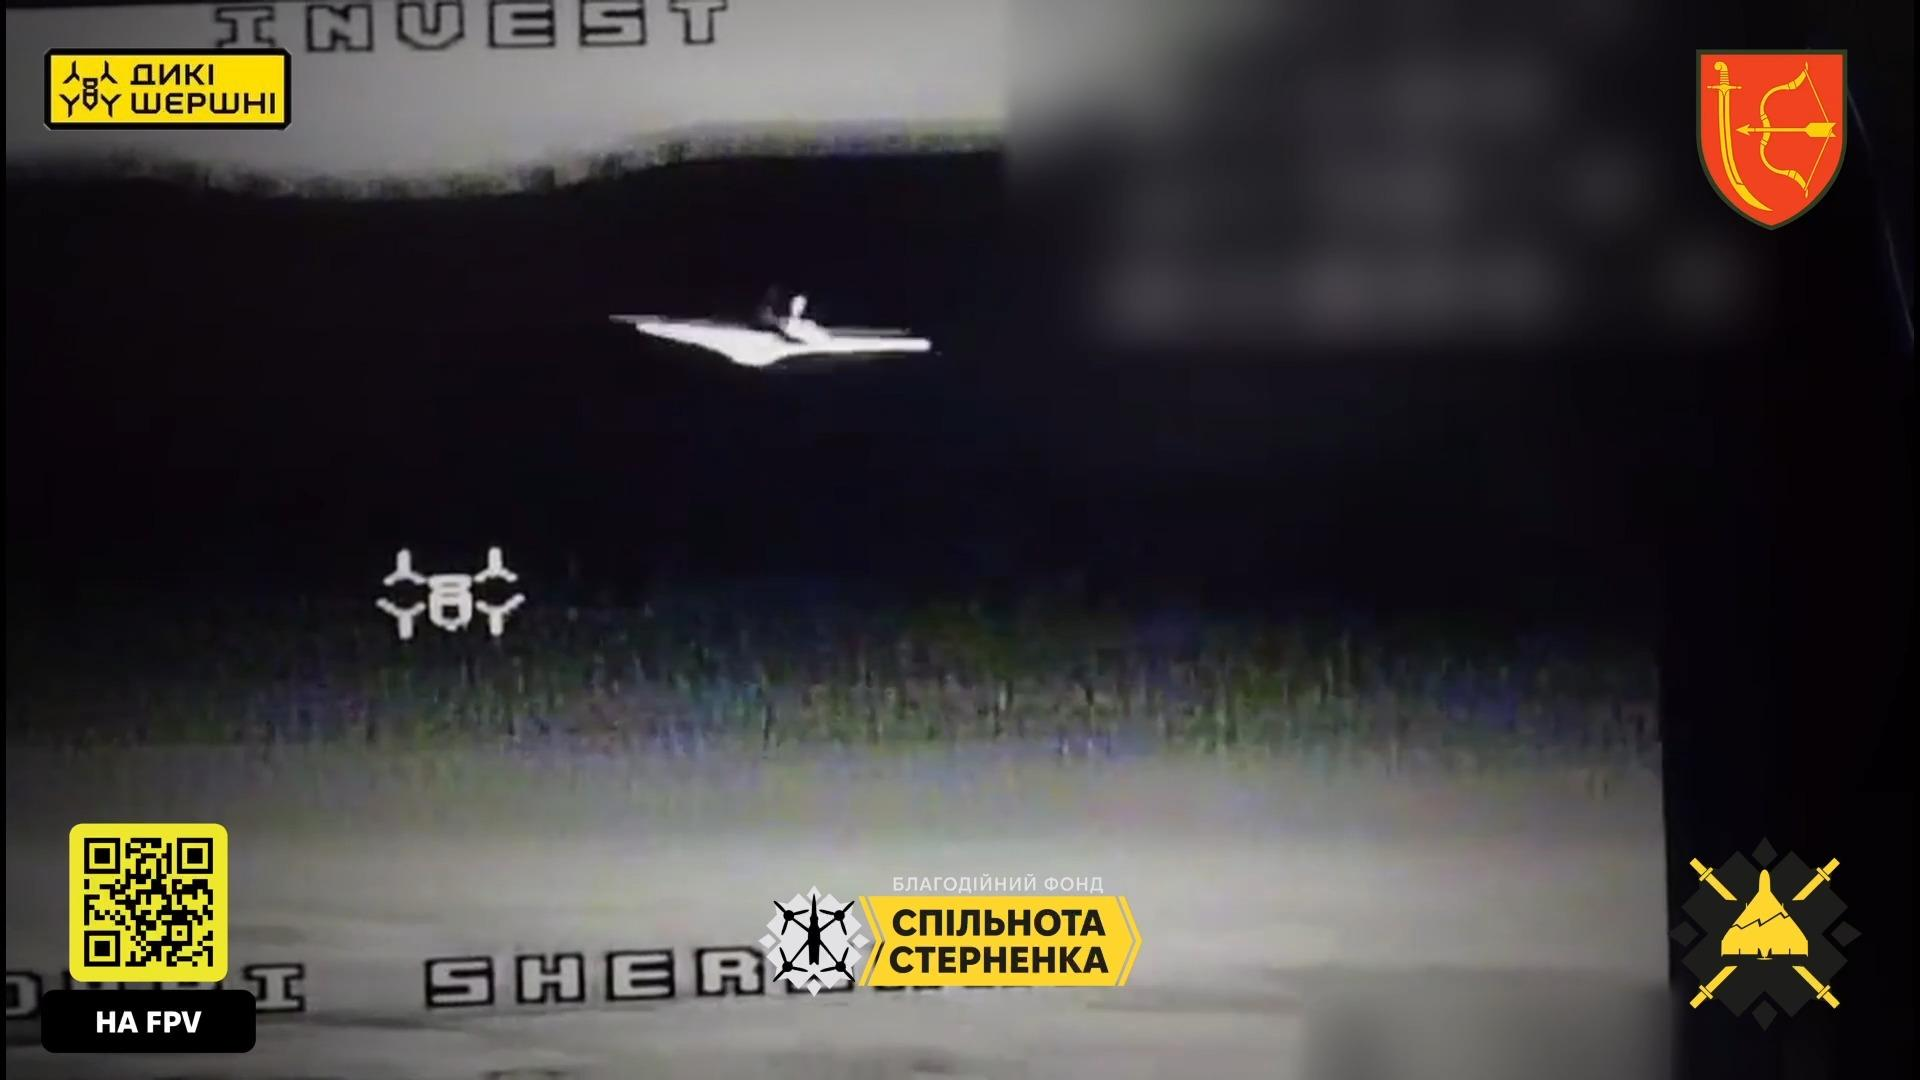Gerbera: (611, 294, 942, 369)
